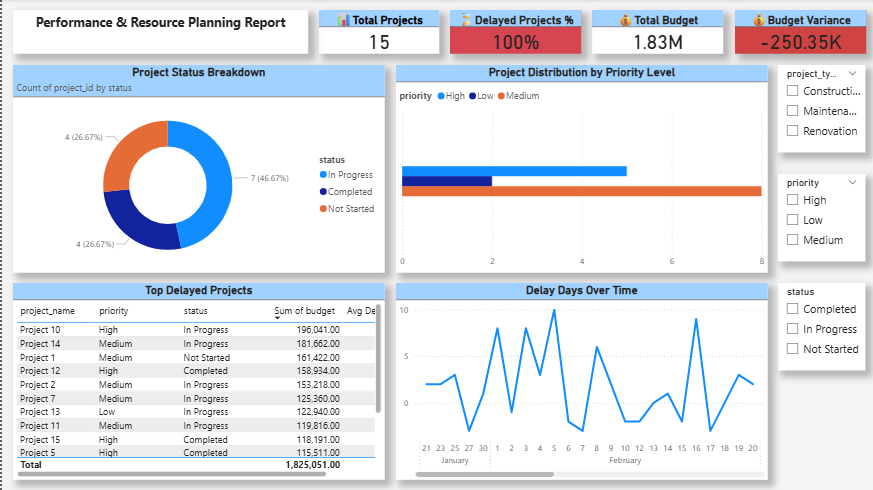

The dashboard page shown, as its layout file describes it:
{"tool":"powerbi","page":{"name":"Overview Dashboard","canvas":[1280,720],"ordinal":0},"visuals":[{"type":"card","title":"📊Total Projects","fields":{"Values":["performance_and_resource_planning projects.Total Projects"]},"box":[464,16,176,64],"z":0},{"type":"card","title":"💰Total Budget","fields":{"Values":["performance_and_resource_planning projects.Total Budget"]},"box":[864,16,192,64],"z":1000},{"type":"card","title":"💰Budget Variance","fields":{"Values":["performance_and_resource_planning projects.Budget Variance"]},"box":[1072,16,192,64],"z":2000},{"type":"card","title":"⌛Average Delay Days","fields":{"Values":["performance_and_resource_planning projects.Avg Delay Days"]},"box":[656,16,192,64],"z":3000},{"type":"textbox","box":[16,16,432,64],"z":4000},{"type":"donutChart","title":"Project Status Breakdown","fields":{"Category":["performance_and_resource_planning projects.status"],"Y":["CountNonNull(performance_and_resource_planning projects.project_id)"]},"box":[16,96,544,304],"z":5000},{"type":"clusteredBarChart","title":"Project Distribution by Priority Level","fields":{"Series":["performance_and_resource_planning projects.priority"],"Y":["CountNonNull(performance_and_resource_planning projects.project_id)"]},"box":[576,96,544,304],"z":6000},{"type":"tableEx","title":"Top Delayed Projects","fields":{"Values":["performance_and_resource_planning projects.project_name","performance_and_resource_planning projects.priority","performance_and_resource_planning projects.status","Sum(performance_and_resource_planning projects.budget)","performance_and_resource_planning projects.Avg Delay Days"]},"box":[16,416,544,288],"z":7000},{"type":"slicer","fields":{"Values":["performance_and_resource_planning projects.status"]},"box":[1136,416,128,128],"z":8000},{"type":"slicer","fields":{"Values":["performance_and_resource_planning projects.project_type"]},"box":[1136,96,128,128],"z":9000},{"type":"slicer","fields":{"Values":["performance_and_resource_planning projects.priority"]},"box":[1136,256,128,128],"z":10000},{"type":"lineChart","title":"Delay Days Over Time","fields":{"Y":["performance_and_resource_planning tasks.Delay Days"],"Category":["performance_and_resource_planning tasks.actual_end.Variation.Date Hierarchy.Month","performance_and_resource_planning tasks.actual_end.Variation.Date Hierarchy.Day"]},"box":[576,416,544,288],"z":11000}]}

Visuals, with their boxes in screenshot pixels (x1, y1, x2, y2), scaled from the page's 1280x720 canvas onto the 873x490 screenshot:
"📊Total Projects" card: crop(316, 11, 436, 54)
"💰Total Budget" card: crop(589, 11, 720, 54)
"💰Budget Variance" card: crop(731, 11, 862, 54)
"⌛Average Delay Days" card: crop(447, 11, 578, 54)
textbox: crop(11, 11, 306, 54)
"Project Status Breakdown" donutChart: crop(11, 65, 382, 272)
"Project Distribution by Priority Level" clusteredBarChart: crop(393, 65, 764, 272)
"Top Delayed Projects" tableEx: crop(11, 283, 382, 479)
slicer - performance_and_resource_planning projects.status: crop(775, 283, 862, 370)
slicer - performance_and_resource_planning projects.project_type: crop(775, 65, 862, 152)
slicer - performance_and_resource_planning projects.priority: crop(775, 174, 862, 261)
"Delay Days Over Time" lineChart: crop(393, 283, 764, 479)
